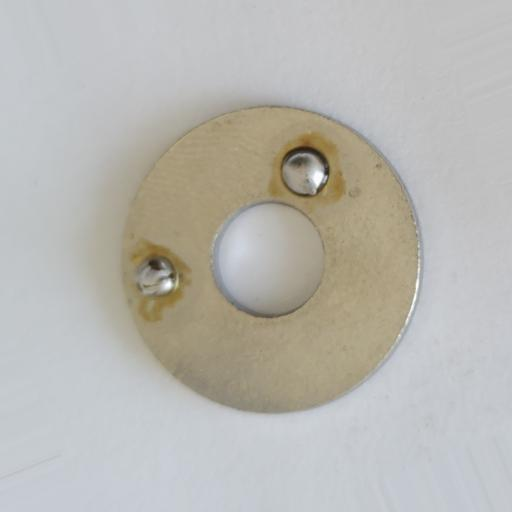excess_material: (278, 146, 332, 199), (133, 254, 181, 298)
